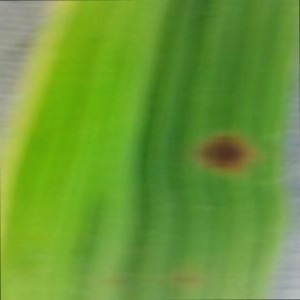Bacterial_Leaf_Blight: (185, 123, 266, 184)
